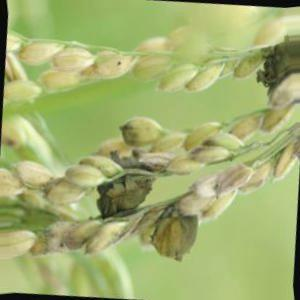Leaf_Scald: (153, 208, 198, 266), (102, 174, 149, 222), (266, 39, 300, 90)
